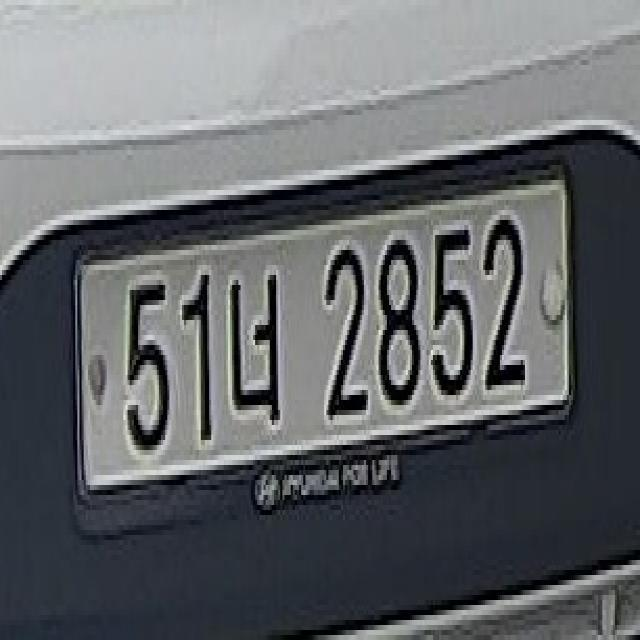1: (180, 266, 216, 450)
2: (480, 198, 534, 398), (321, 239, 372, 419)
5: (428, 220, 476, 408), (126, 270, 172, 456)
8: (378, 232, 423, 413)
license_plate: (64, 165, 574, 510)
neo: (223, 252, 287, 440)
